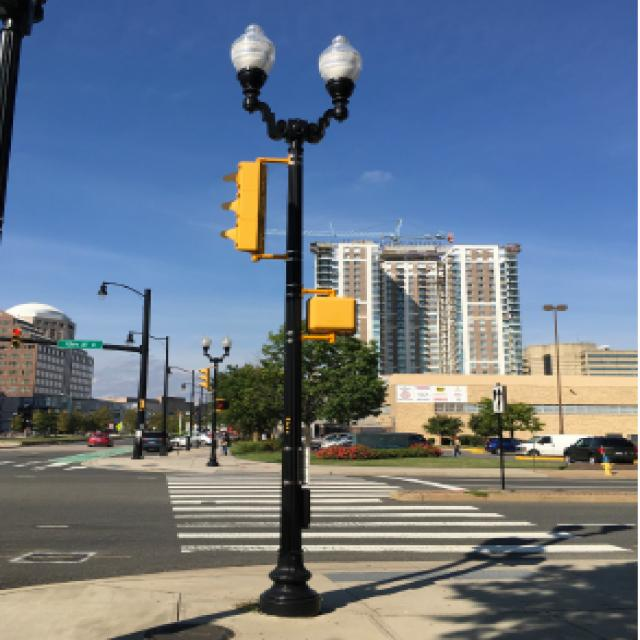Electric pole: (232, 25, 363, 619)
